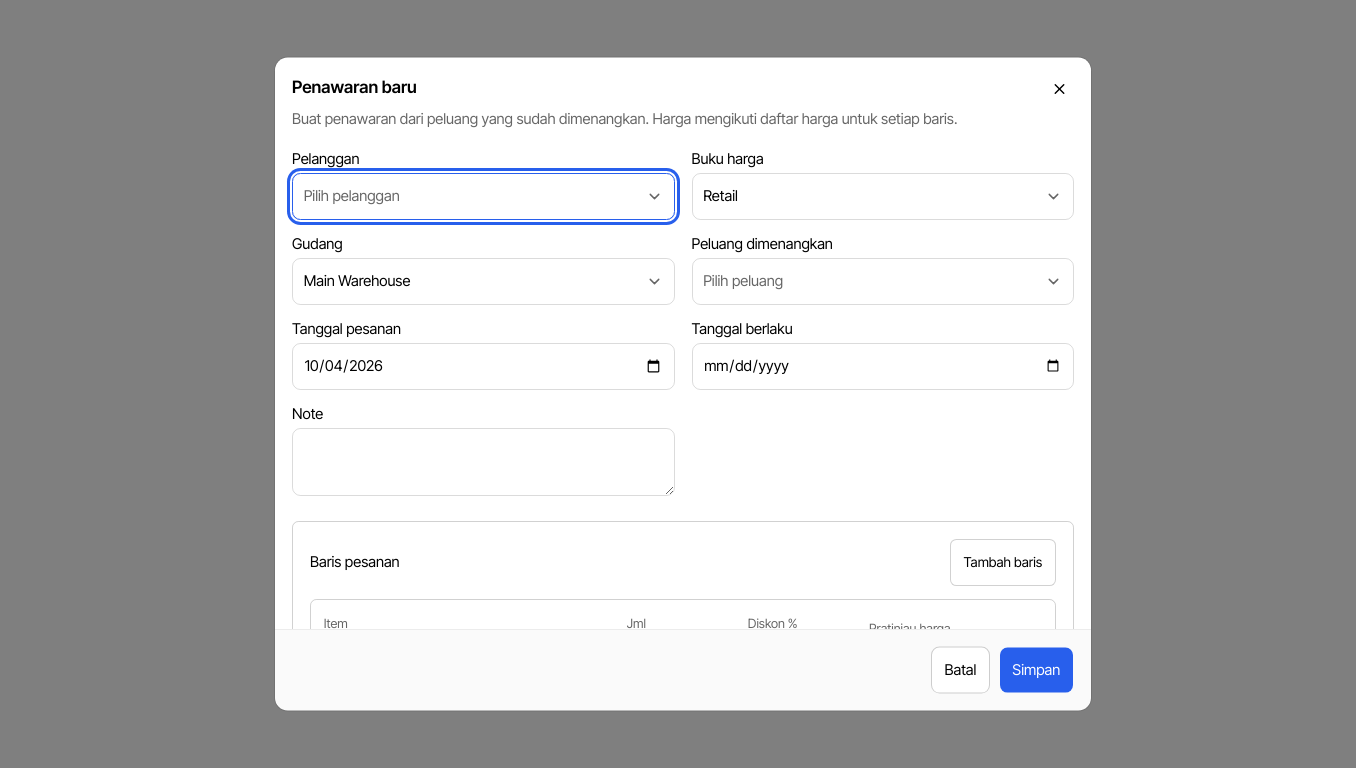
Test: SaleOrderFormDialog extra › requires a customer before saving
Expected: the dialog is shown, [275,58,1091,710]
Click the button "Simpan". click: coordinates (1036, 670)
box: [999,647,1074,693]
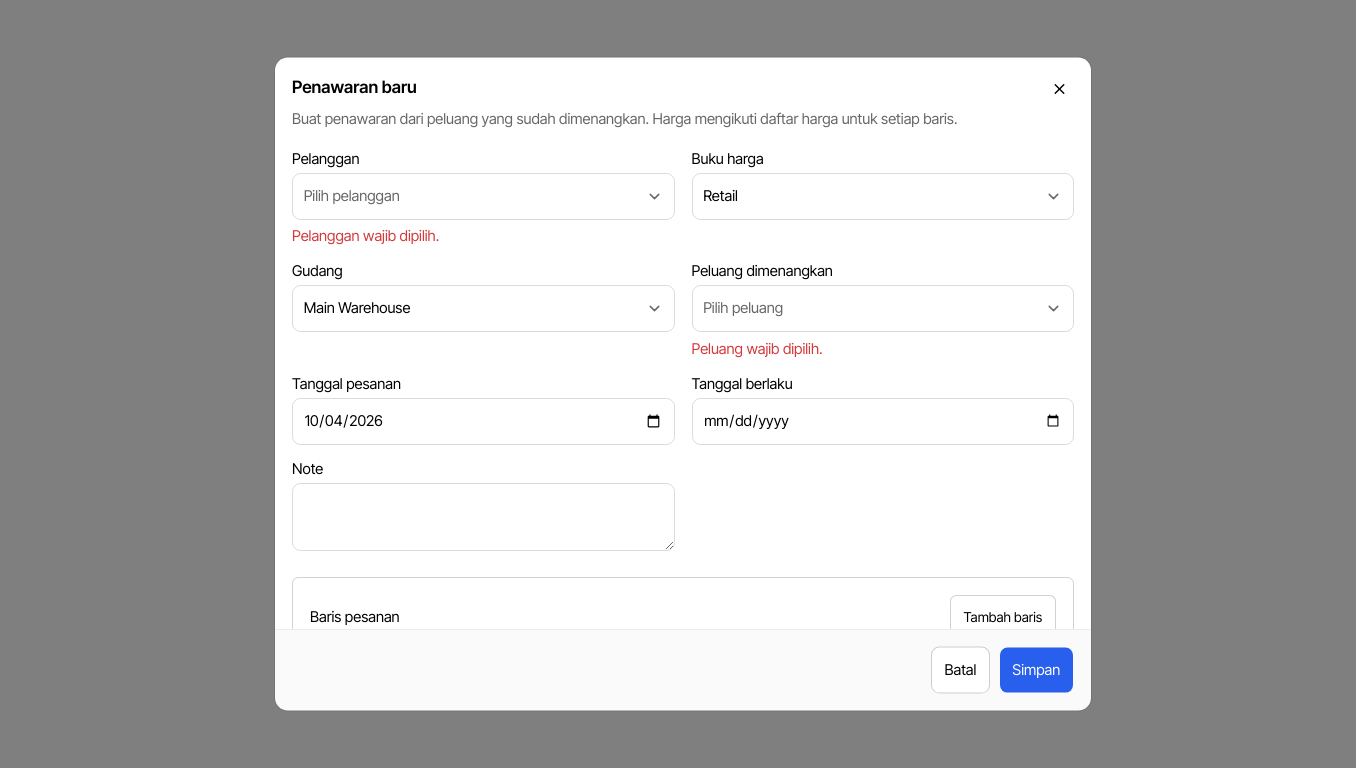
Now the text "Pelanggan wajib dipilih." is shown, box [292,226,439,244]
